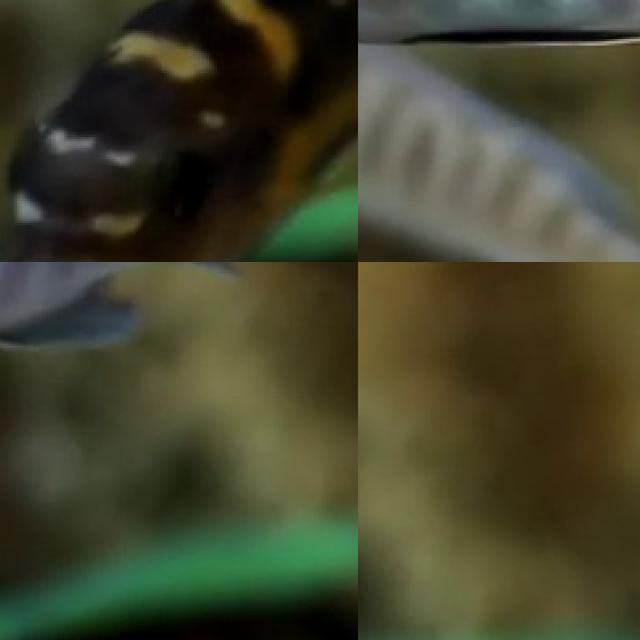fish: (0, 0, 358, 262), (0, 262, 247, 374)
